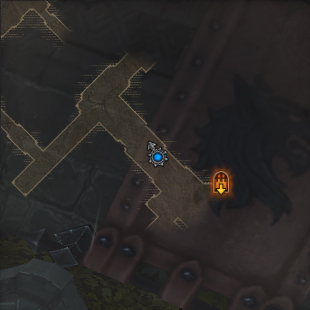Exit: (213, 168, 231, 196)
